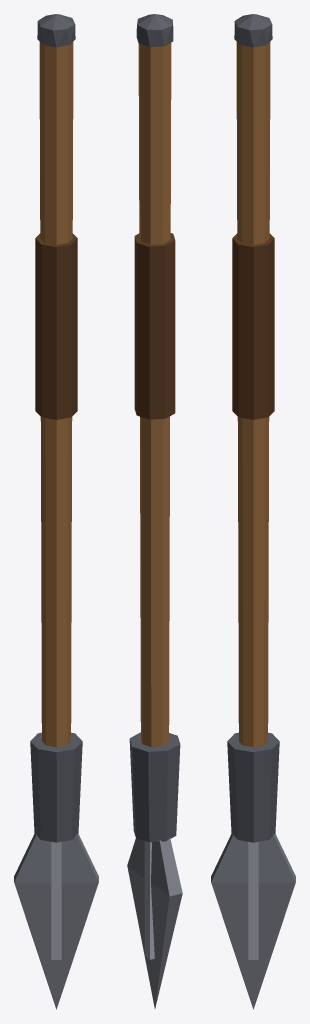
The model's file is held_iron_spear.glb.
3 renders of one model, left to right at view 1: azimuth 90°, elevation 25°; view 2: azimuth 210°, elevation 25°; view 3: azimuth 270°, elevation 25°, orthographic.
Visible parts, largest first — view 1: held_iron_spear; view 2: held_iron_spear; view 3: held_iron_spear.
Part boxes in pixels (x1,y1,x2,y2): held_iron_spear: (14,14,98,1009); held_iron_spear: (127,14,182,1008); held_iron_spear: (211,14,295,1009).
Size of the model in its own units: 0.062 by 1.3 by 0.1.
